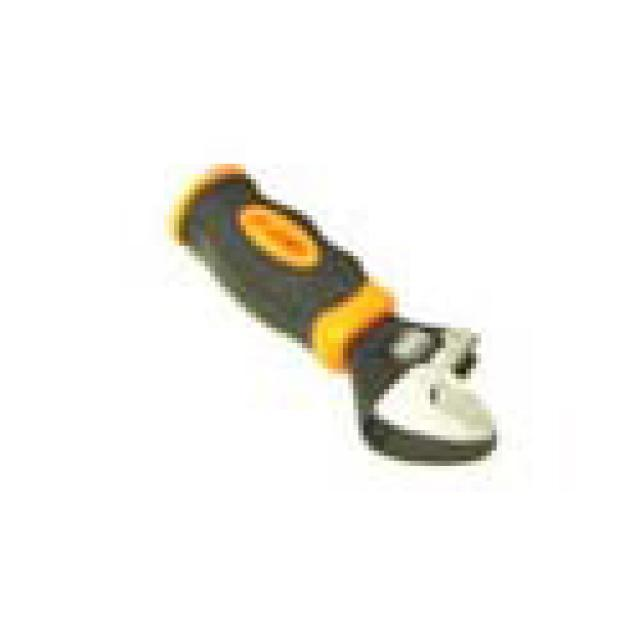wrench: (162, 156, 506, 470)
